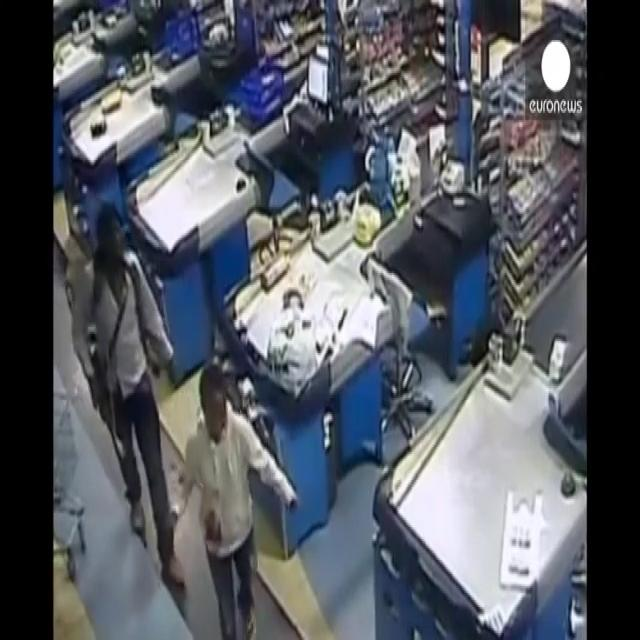Weapon: (82, 323, 152, 509)
